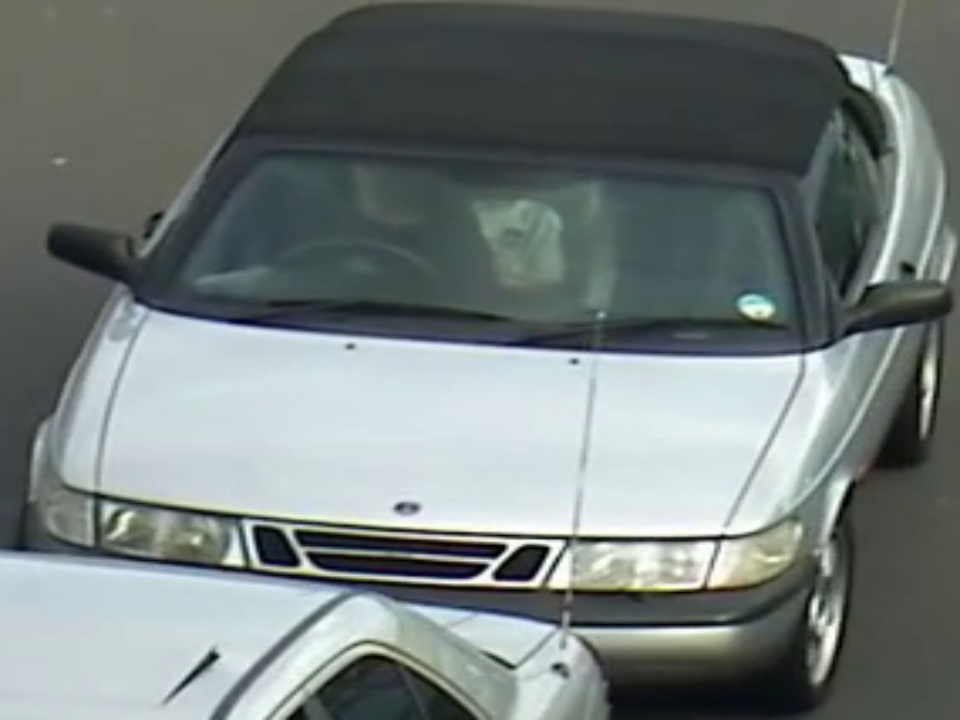ONE: (202, 148, 783, 355)
